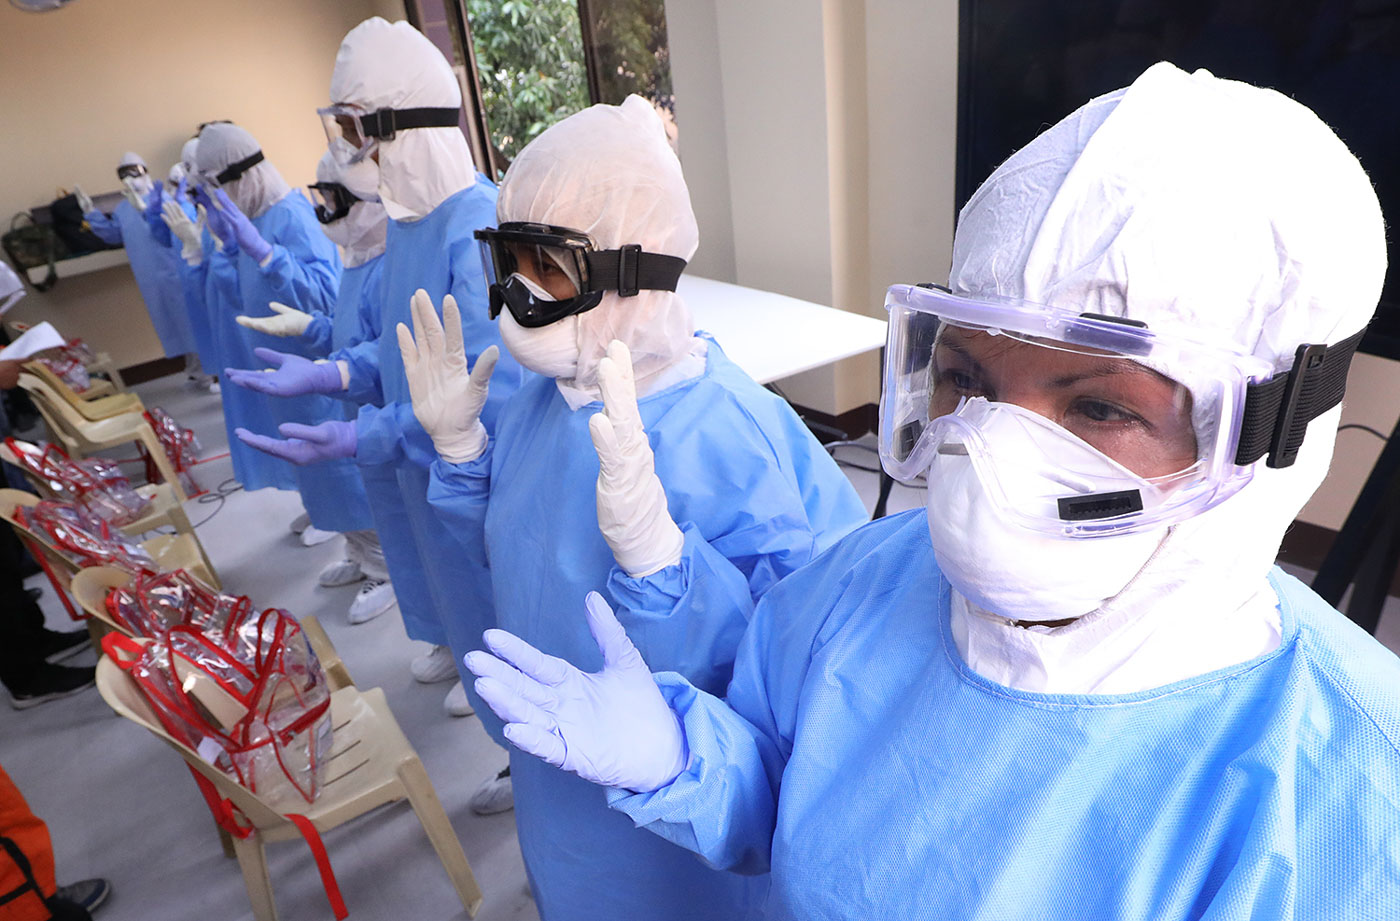Coverall: (736, 521, 1400, 921), (466, 341, 778, 921)
Gloves: (461, 591, 677, 790), (573, 337, 696, 582), (393, 288, 500, 470), (227, 410, 361, 472), (215, 341, 344, 399), (228, 297, 329, 338), (215, 190, 265, 270), (154, 196, 211, 261)
Goggles: (871, 278, 1266, 526), (467, 211, 634, 333), (309, 98, 393, 170), (305, 183, 374, 221)
with_mask: (890, 297, 1217, 647), (476, 229, 585, 383), (327, 100, 389, 203), (304, 178, 384, 251)
